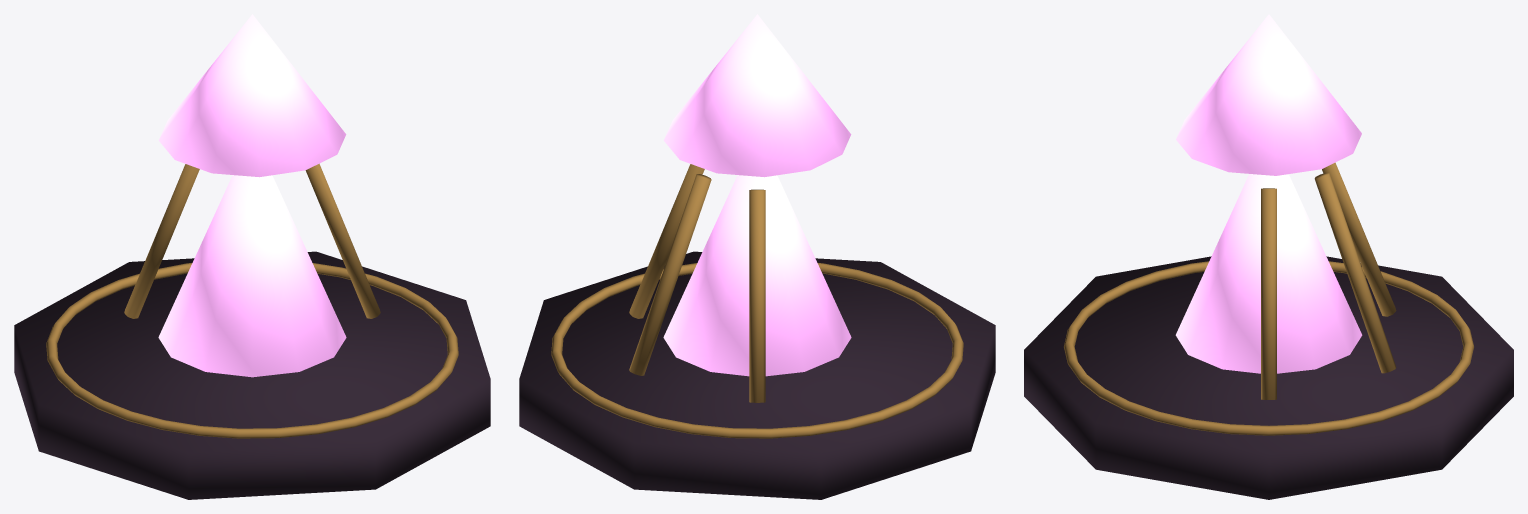
The picture shows the model from 3 angles, left to right: view 1: azimuth 30°, elevation 25°; view 2: azimuth 150°, elevation 25°; view 3: azimuth 270°, elevation 25°; orthographic projection.
Visible parts, largest first — view 1: Hexagonal plinth, Lower crystal, Upper crystal, Inlaid rim, Brass setting.002, Brass setting; view 2: Hexagonal plinth, Lower crystal, Upper crystal, Inlaid rim, Brass setting.002, Brass setting.001, Brass setting; view 3: Hexagonal plinth, Lower crystal, Upper crystal, Inlaid rim, Brass setting.001, Brass setting, Brass setting.002.
Boxes of the visible parts, x1,y1,x2,y2 form: Hexagonal plinth: (14,251,490,499); Lower crystal: (158,175,346,377); Upper crystal: (158,14,346,177); Inlaid rim: (46,263,458,438); Brass setting.002: (124,164,199,318); Brass setting: (305,163,380,318); Hexagonal plinth: (519,251,995,499); Lower crystal: (663,175,851,376); Upper crystal: (663,14,851,177); Inlaid rim: (551,263,963,438); Brass setting.002: (749,189,765,402); Brass setting.001: (629,174,711,375); Brass setting: (629,164,704,318); Hexagonal plinth: (1024,256,1513,499); Lower crystal: (1175,174,1362,373); Upper crystal: (1176,14,1361,175); Inlaid rim: (1064,261,1473,435); Brass setting.001: (1314,173,1396,373); Brass setting: (1261,188,1276,399); Brass setting.002: (1322,162,1396,316).
Size of the model in its own units: 1.52 by 1.31 by 1.52.
